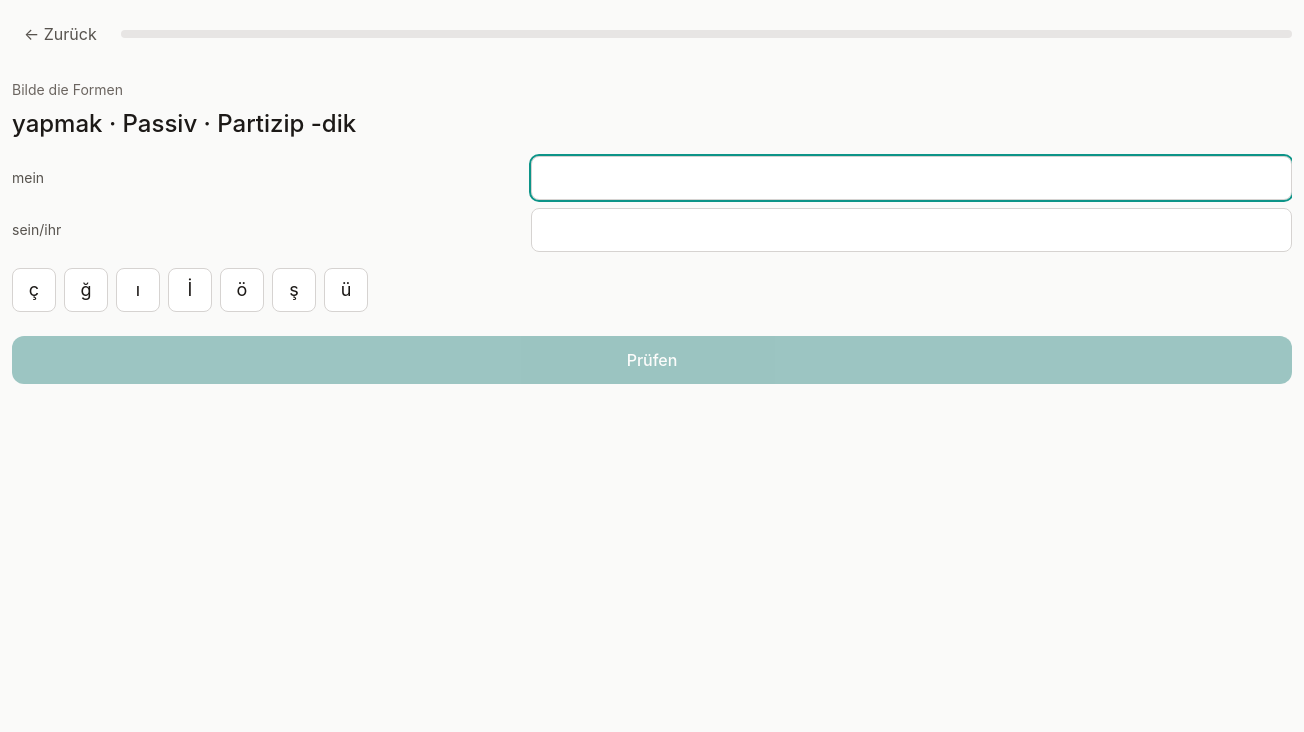
Test: LessonRunner › Tabelle mit Partizip nennt Passiv in der Formel
This screenshot has width=1304, height=732.
Expected: the text "yapmak · Passiv · Partizip -dik" is shown, [12, 109, 356, 138]
Type "yapıldığım" into the field labelled "mein" at (912, 178), box [531, 156, 1292, 200]
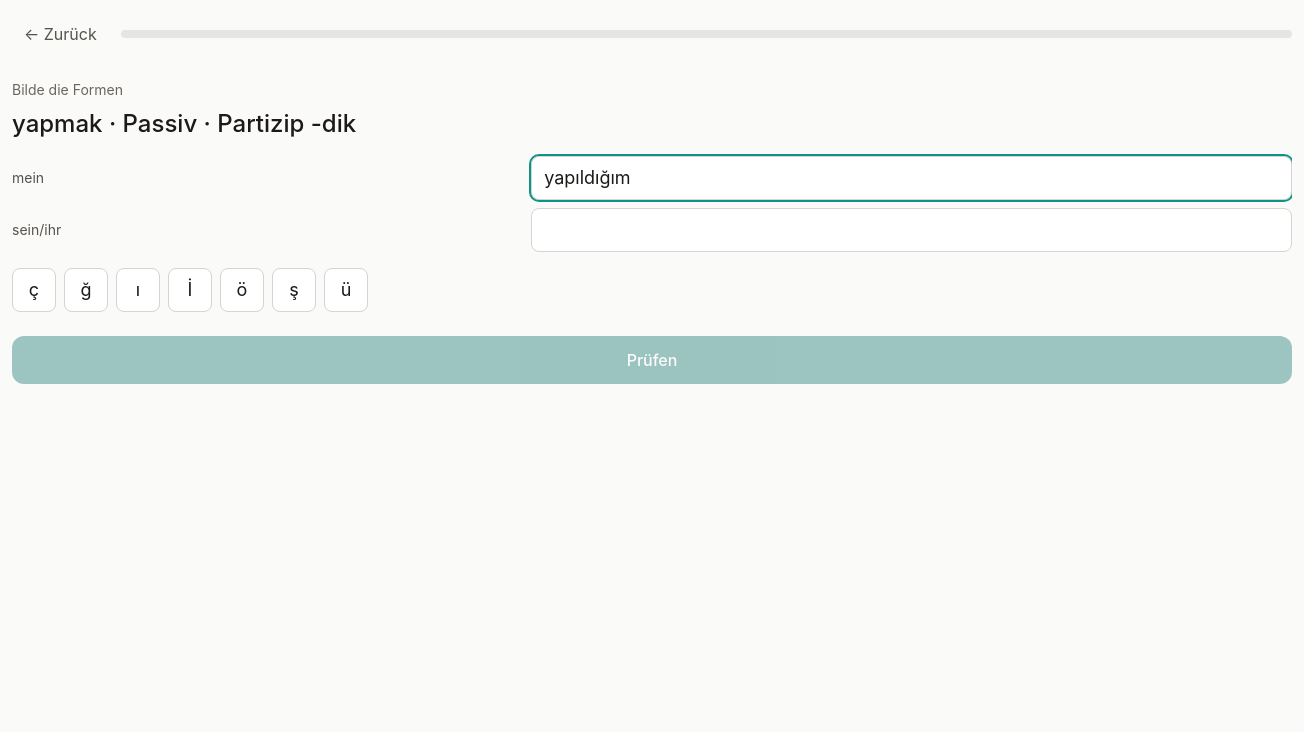
Type "yapıldığı" into the field labelled "sein/ihr" at (912, 230), box [531, 208, 1292, 252]
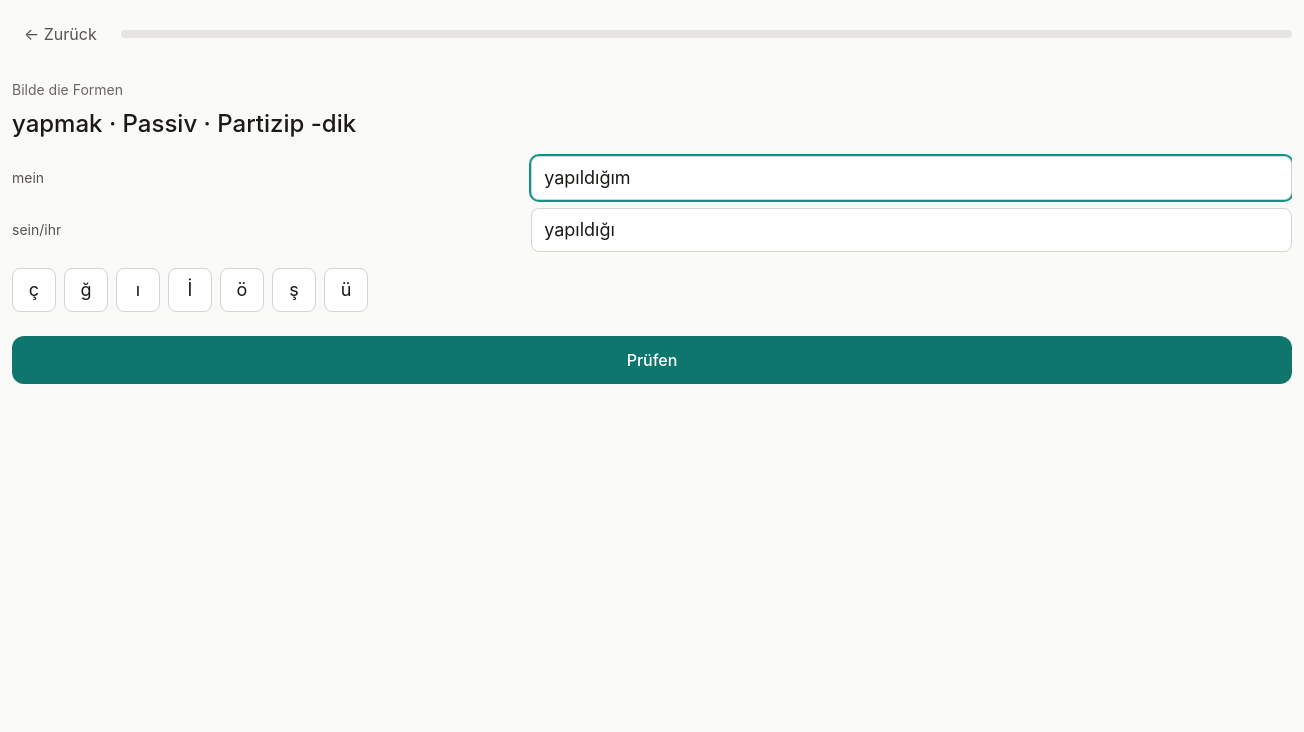
Click the button "Prüfen" at (652, 360), box [12, 336, 1292, 384]
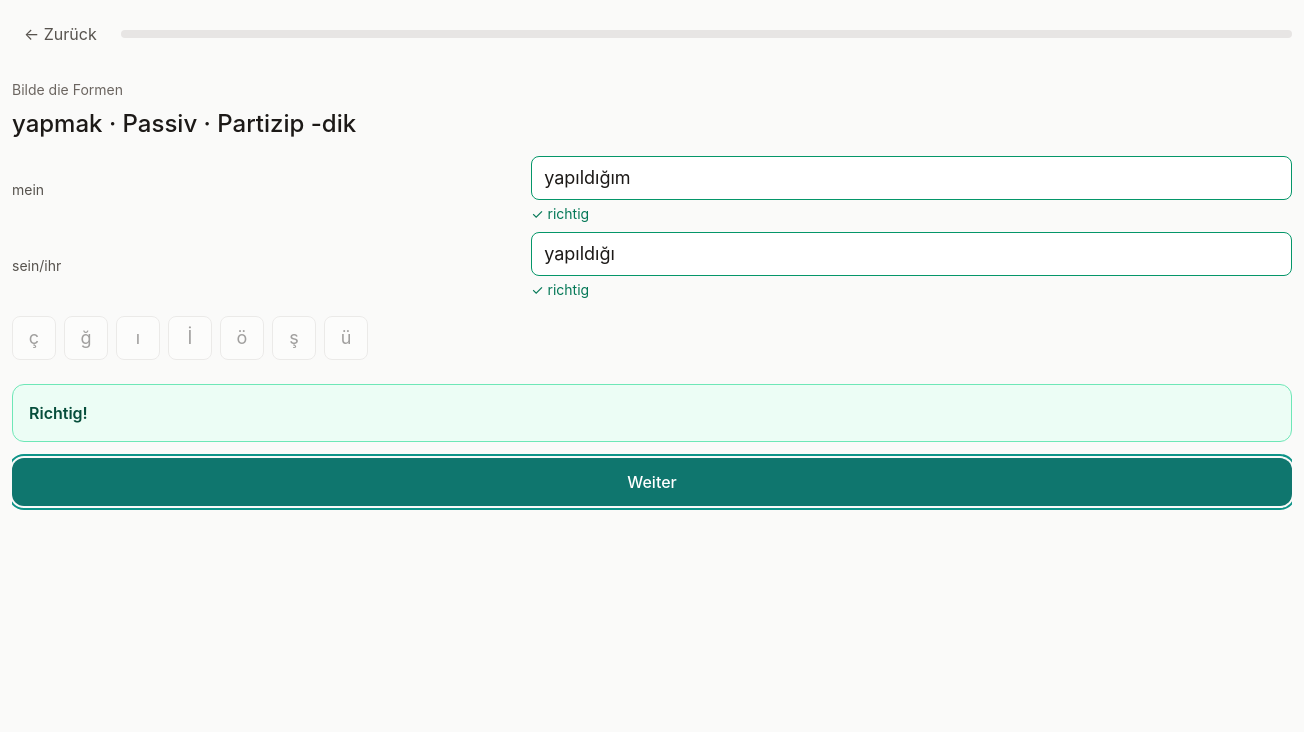
Expected: the message reads "Richtig!", [29, 403, 88, 423]
